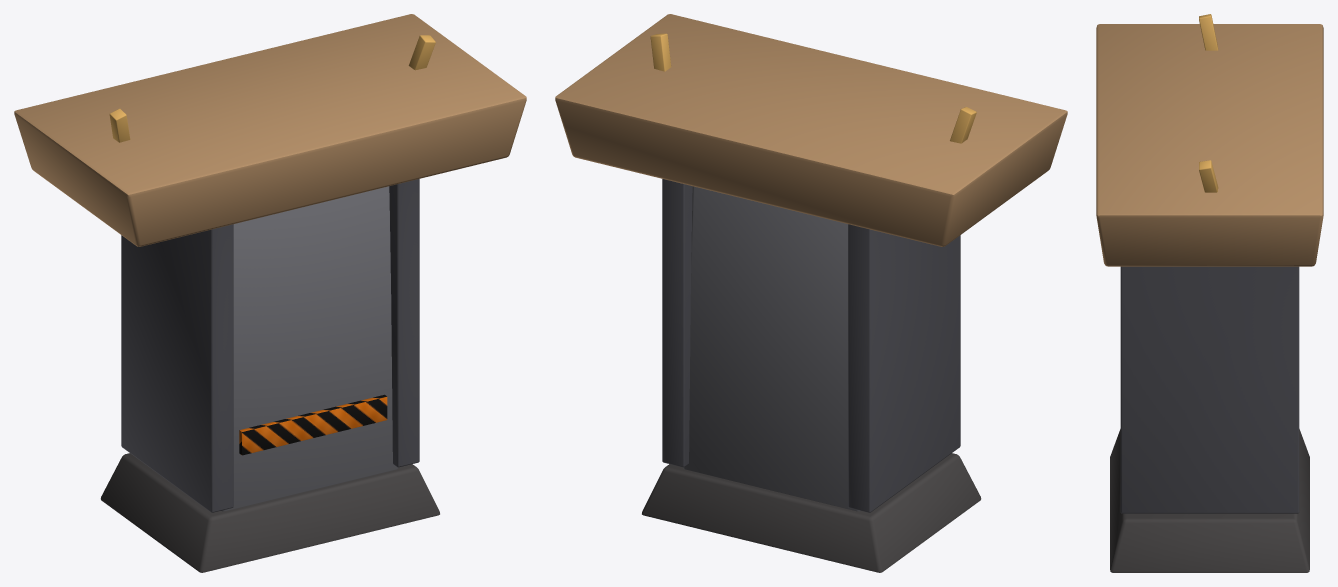
Rendered from ruined_viaduct_pier.glb.
3 views of the same model, side by side, from view 1: azimuth 30°, elevation 25°; view 2: azimuth 150°, elevation 25°; view 3: azimuth 270°, elevation 25° (orthographic).
Parts seen in each view (by area): view 1: PropBody_A1_OchreDust, PropBody_A1_CharcoalArmor, PropBody_A1_GunmetalFrame, PropBody_A1_BurnedScrap, PropBody_A1_Hazard, PropBody_A1_HeatBrass; view 2: PropBody_A1_OchreDust, PropBody_A1_CharcoalArmor, PropBody_A1_GunmetalFrame, PropBody_A1_BurnedScrap, PropBody_A1_HeatBrass; view 3: PropBody_A1_OchreDust, PropBody_A1_GunmetalFrame, PropBody_A1_BurnedScrap, PropBody_A1_HeatBrass.
Boxes of the visible parts, x1=… form: PropBody_A1_OchreDust: x1=14, y1=14, x2=526, y2=246; PropBody_A1_CharcoalArmor: x1=221, y1=186, x2=398, y2=511; PropBody_A1_GunmetalFrame: x1=121, y1=179, x2=419, y2=512; PropBody_A1_BurnedScrap: x1=100, y1=453, x2=439, y2=572; PropBody_A1_Hazard: x1=239, y1=394, x2=387, y2=455; PropBody_A1_HeatBrass: x1=109, y1=35, x2=435, y2=142; PropBody_A1_OchreDust: x1=555, y1=14, x2=1067, y2=246; PropBody_A1_CharcoalArmor: x1=683, y1=186, x2=860, y2=511; PropBody_A1_GunmetalFrame: x1=662, y1=179, x2=960, y2=512; PropBody_A1_BurnedScrap: x1=642, y1=453, x2=981, y2=572; PropBody_A1_HeatBrass: x1=650, y1=33, x2=976, y2=143; PropBody_A1_OchreDust: x1=1096, y1=24, x2=1323, y2=266; PropBody_A1_GunmetalFrame: x1=1120, y1=266, x2=1299, y2=513; PropBody_A1_BurnedScrap: x1=1110, y1=429, x2=1309, y2=572; PropBody_A1_HeatBrass: x1=1199, y1=14, x2=1218, y2=192.
Bounding box in the file's own units: 4.95 × 5.15 × 2.47.
Materials: 6 (1 with a texture image).
